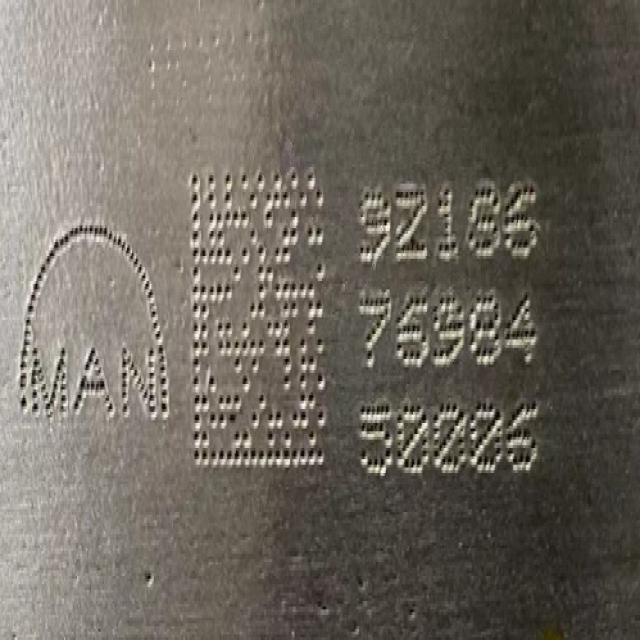dmc: (191, 172, 323, 461)
